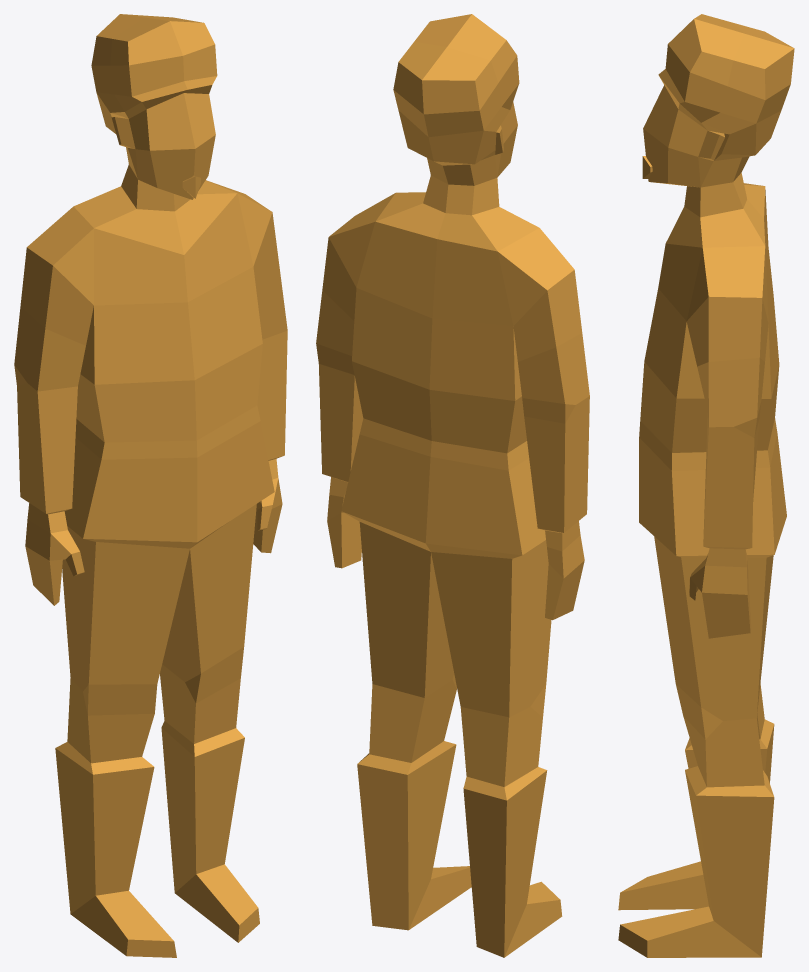
File: man-lord-rival.fbx
3 views of the same model, side by side, from view 1: azimuth 30°, elevation 25°; view 2: azimuth 150°, elevation 25°; view 3: azimuth 270°, elevation 25° (orthographic).
Visible parts, largest first — view 1: man-lord-rival; view 2: man-lord-rival; view 3: man-lord-rival.
Part boxes in pixels (bbox=[...]): man-lord-rival: bbox=[14, 14, 287, 957]; man-lord-rival: bbox=[316, 14, 589, 957]; man-lord-rival: bbox=[618, 14, 794, 957].
Size of the model in its own units: 0.5495 by 1.89 by 0.3336.
